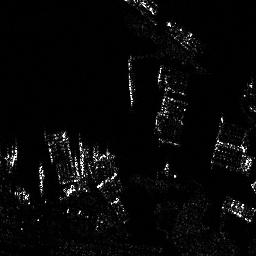ship: (36, 165, 46, 194), (126, 73, 134, 107)
